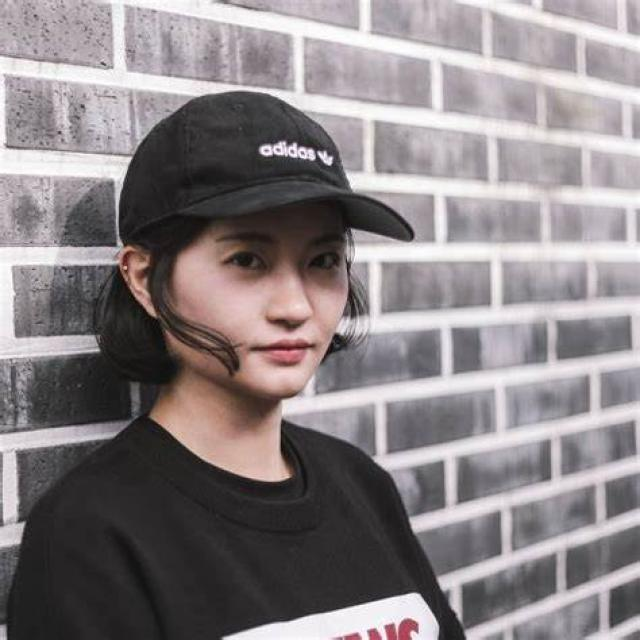illegal_helmet: (104, 86, 424, 406)
